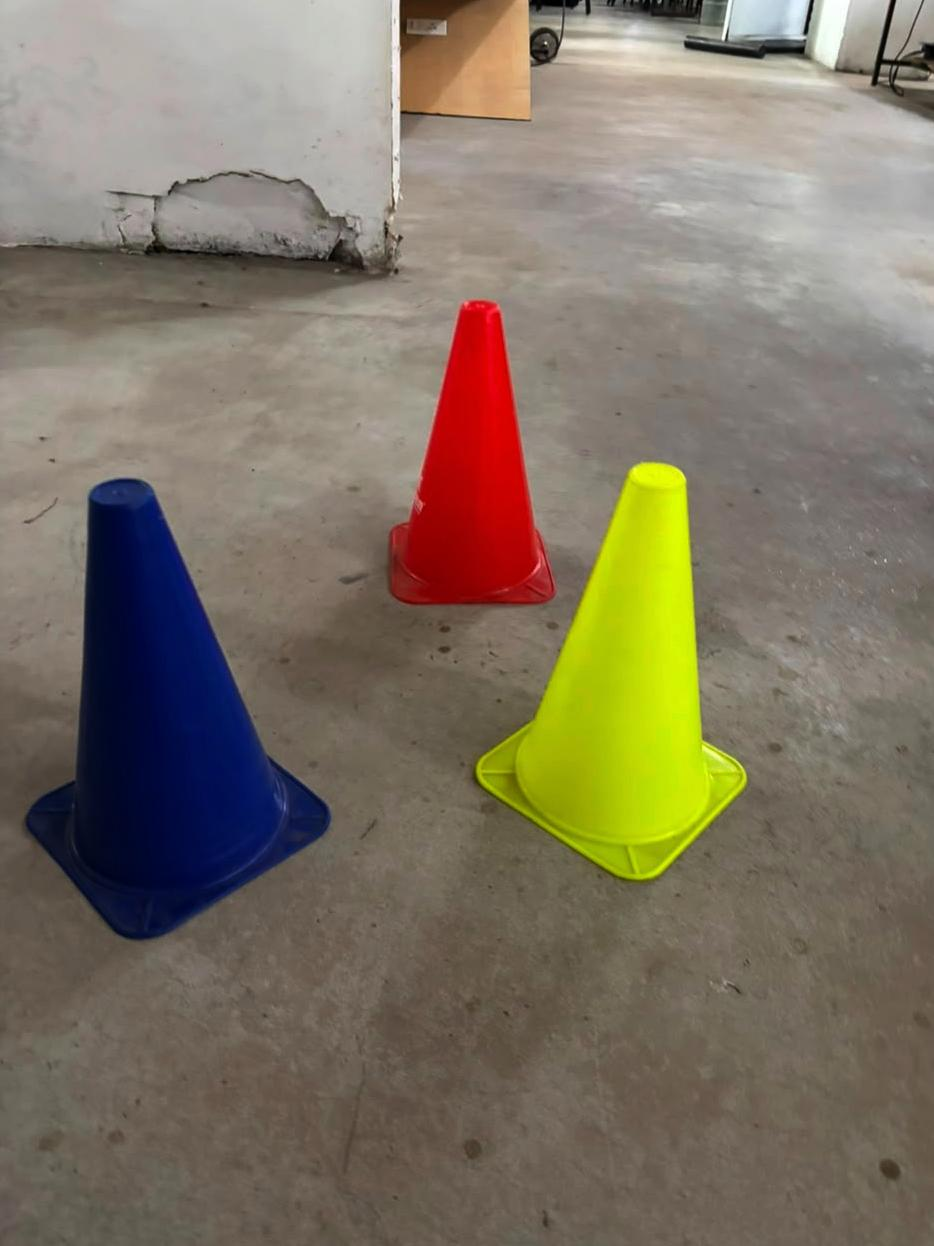0 cone: (27, 481, 329, 938), (476, 463, 746, 881), (390, 301, 554, 604)
